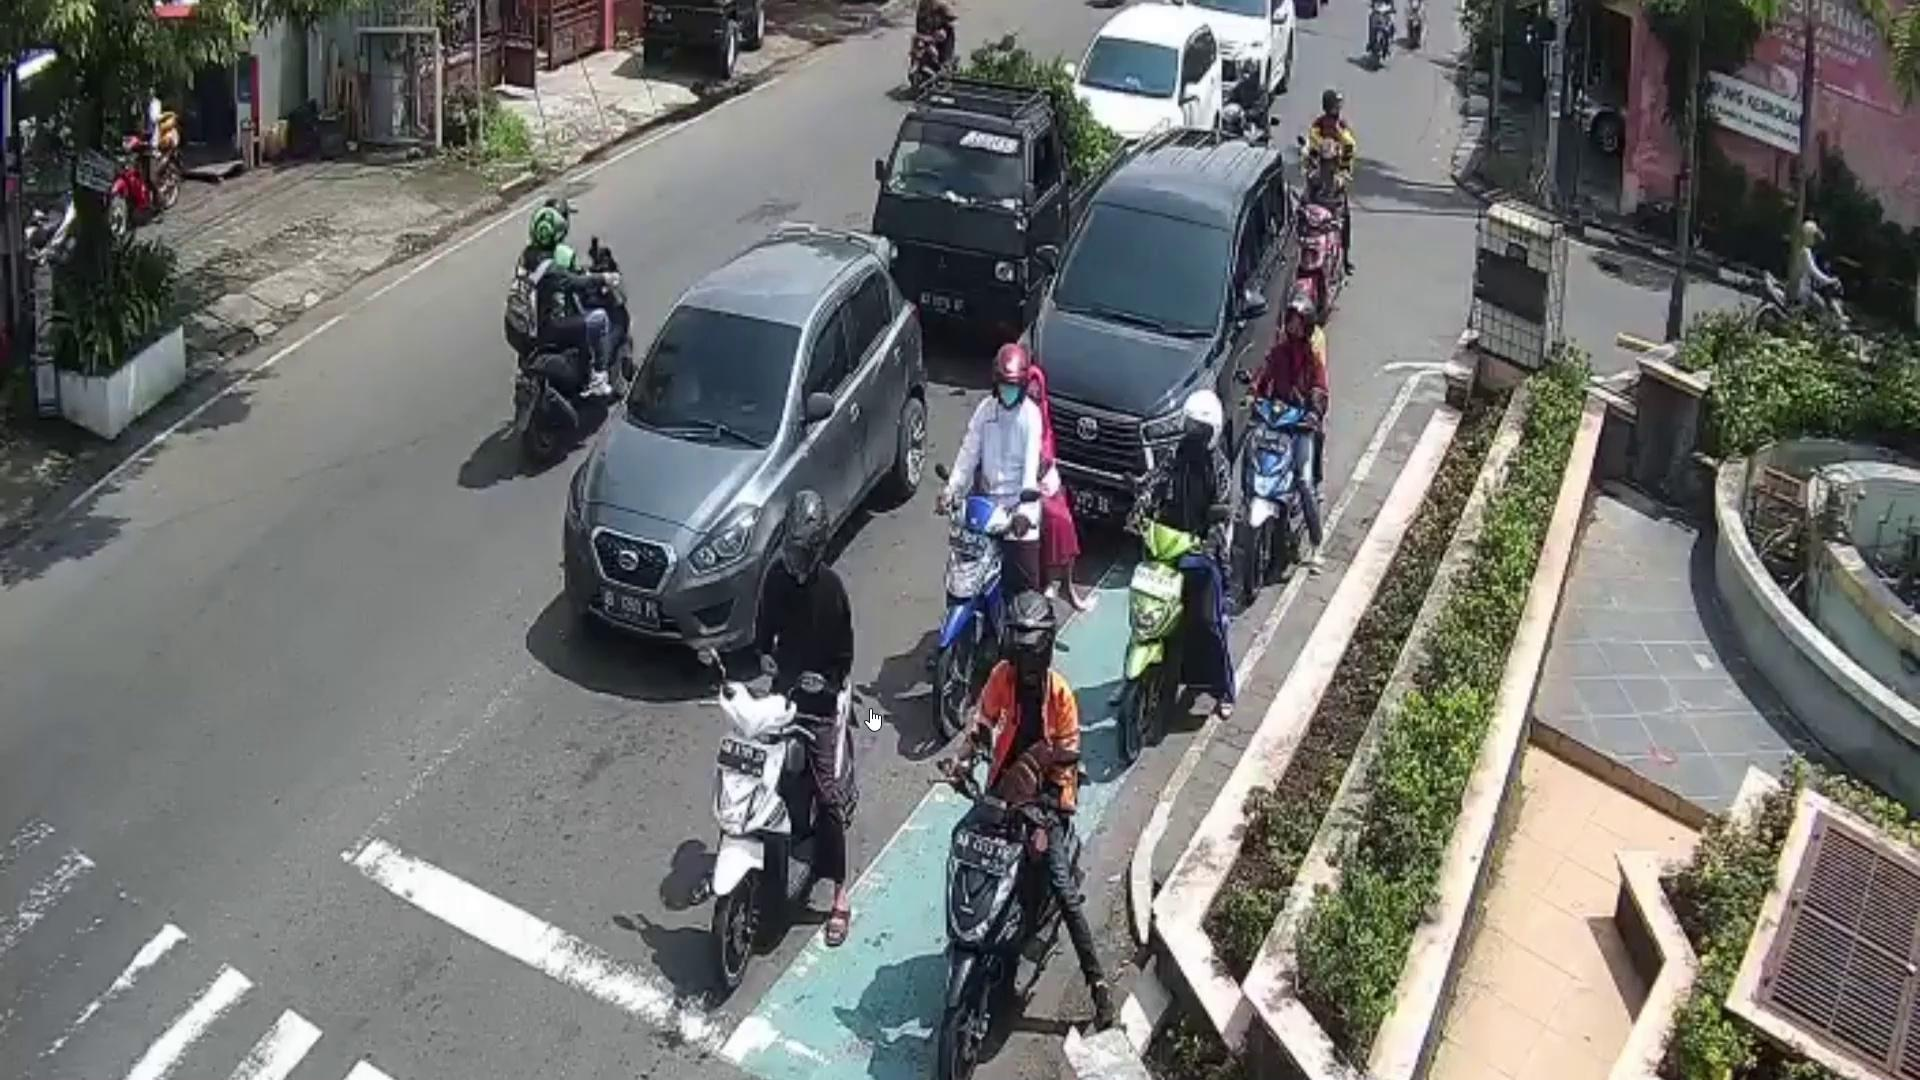car: (562, 222, 926, 663), (1022, 131, 1302, 543), (870, 71, 1127, 336), (1076, 0, 1229, 141), (1216, 0, 1299, 96)
motorbike: (704, 658, 869, 984), (939, 773, 1080, 1080), (516, 233, 636, 462), (1114, 517, 1197, 762), (943, 493, 1029, 725), (1246, 398, 1305, 582), (1764, 260, 1844, 384)
